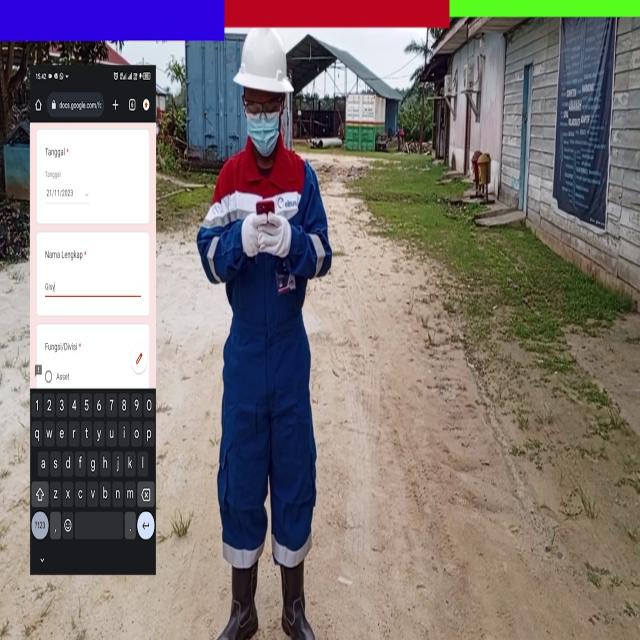Gloves: (255, 217, 287, 264), (239, 211, 264, 260)
Hardhat: (231, 32, 294, 99)
Mask: (247, 112, 280, 157)
Overall Suit: (195, 153, 331, 565)
Safety Boots: (219, 564, 255, 639), (273, 564, 305, 640)
